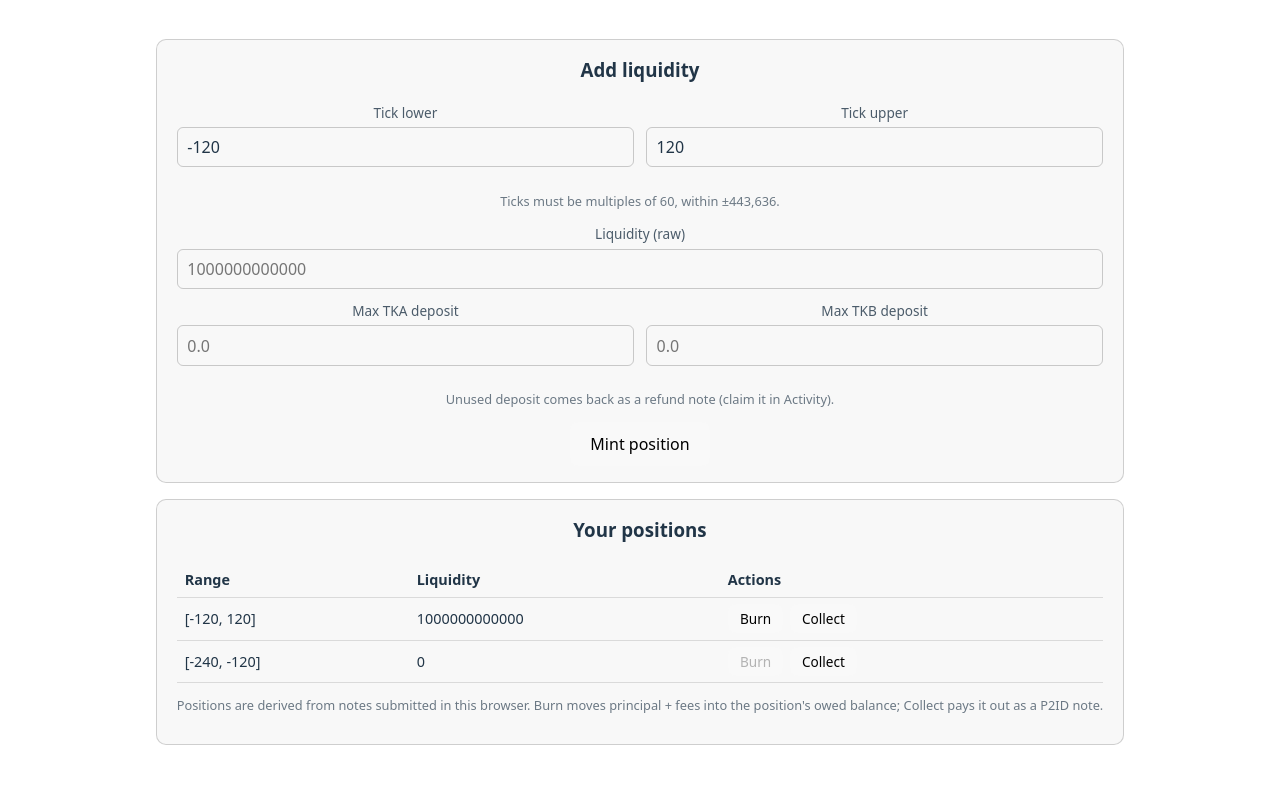
Scenario: Positions mint form › rejects an inverted range
Step 1. Replace the text in the field labelled "Tick lower" with "180" → (405,147), box [177, 127, 634, 167]
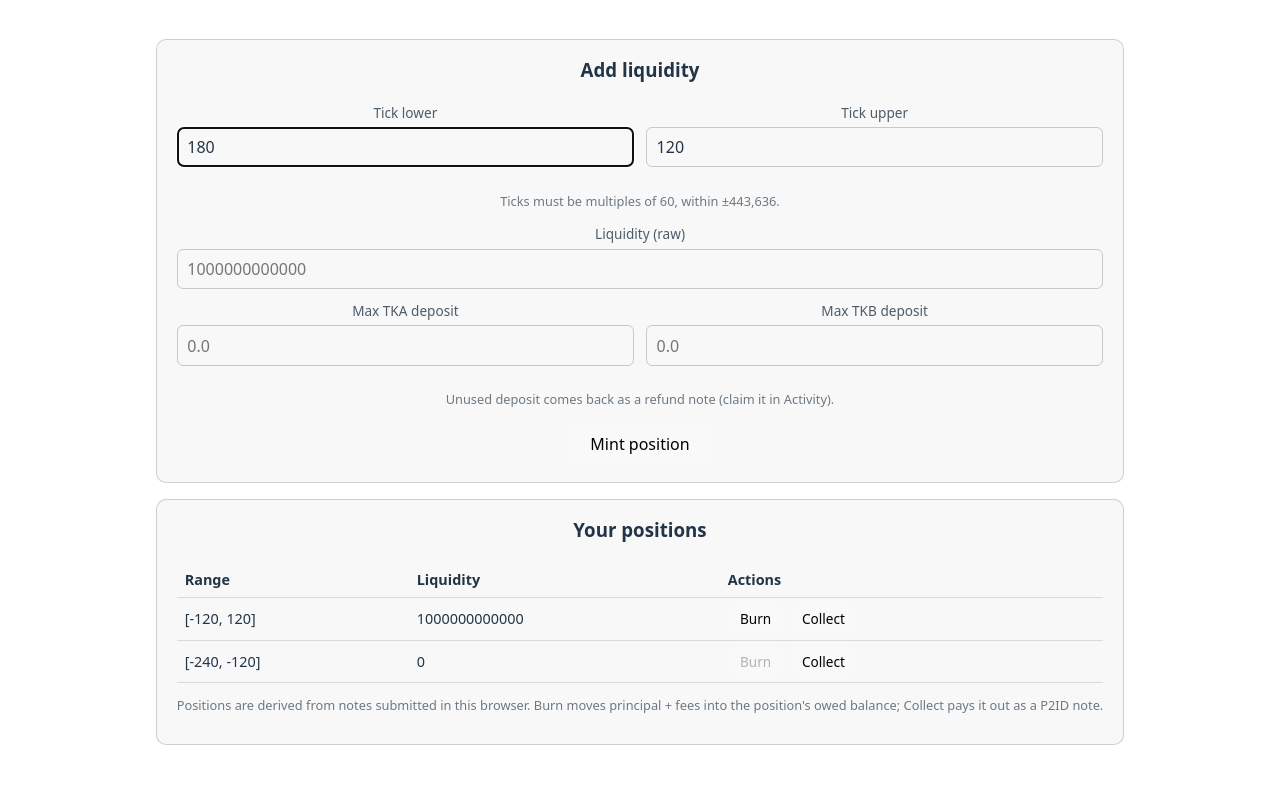
Step 2. Type "1000" into the field labelled "Liquidity (raw)" → (640,269), box [177, 248, 1103, 289]
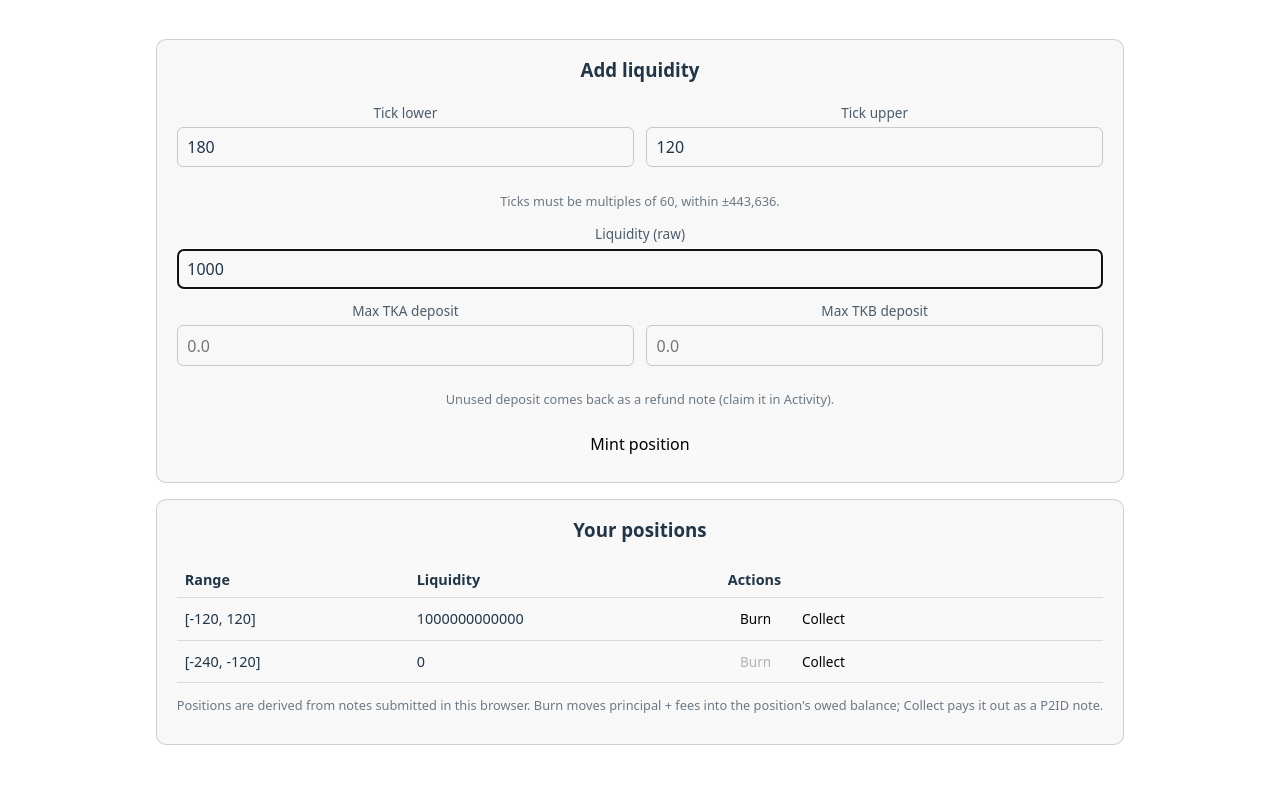
Step 3. Type "1" into the field labelled "Max TKA deposit" → (405,346), box [177, 325, 634, 366]
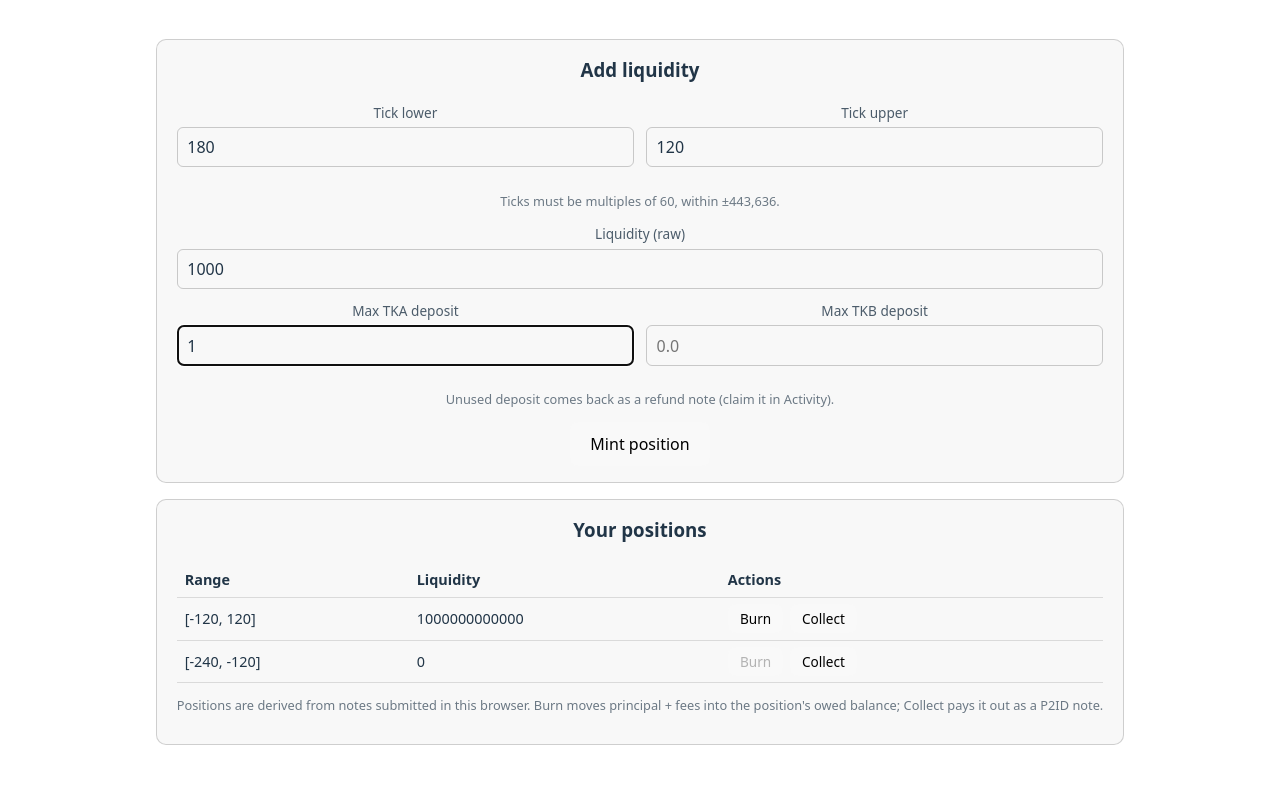
Step 4. Click the button "Mint position" → (640,444), box [570, 422, 710, 466]
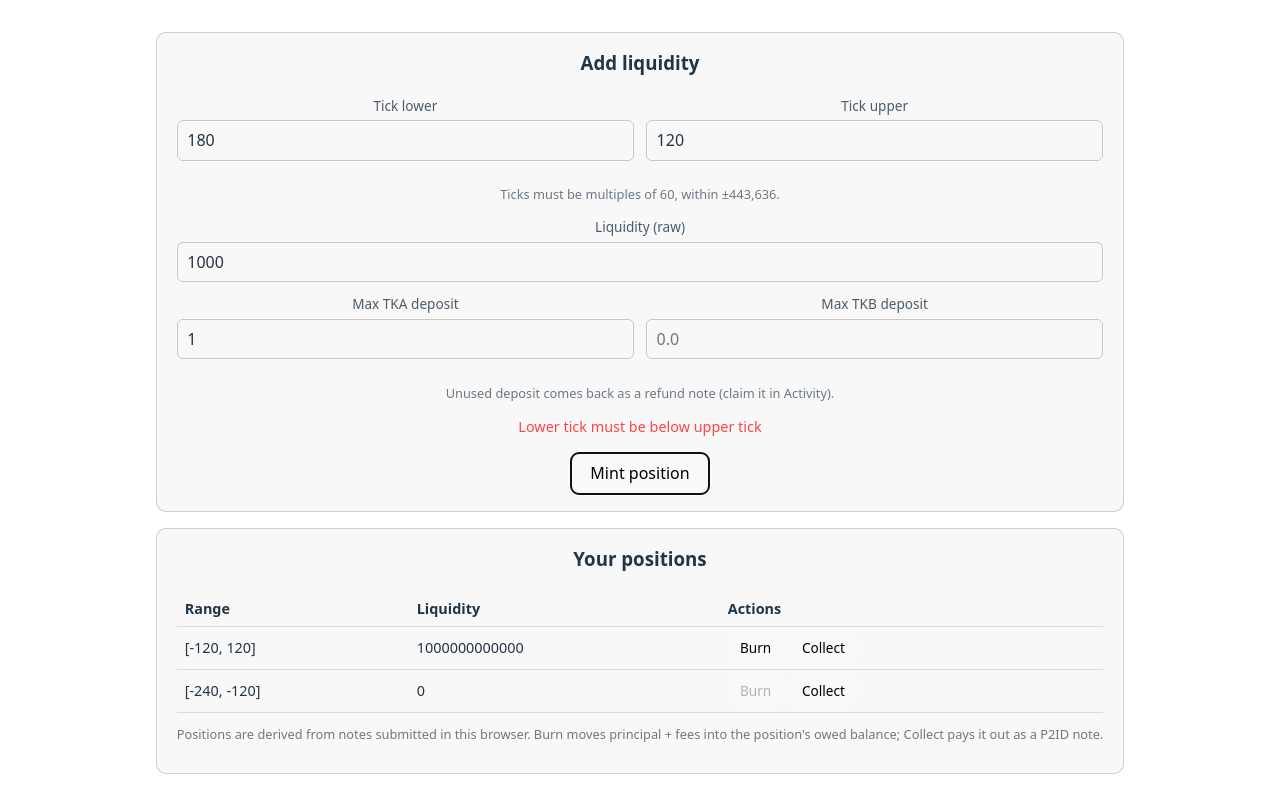
Expected: the message shows "Lower tick must be below", [518, 417, 762, 436]
